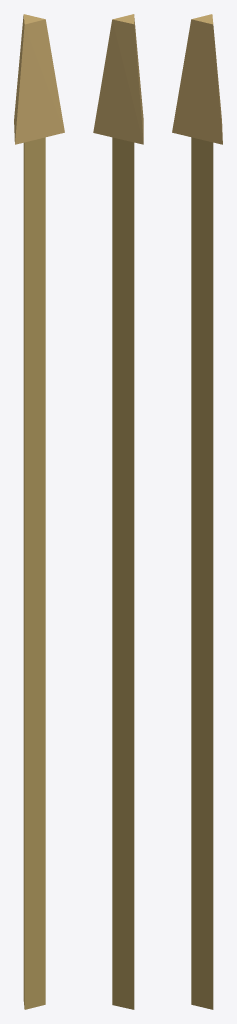
File: field_wheat_stalk.obj
The picture shows the model from 3 angles, left to right: view 1: azimuth 90°, elevation 25°; view 2: azimuth 150°, elevation 25°; view 3: azimuth 270°, elevation 25°; orthographic projection.
Visible parts, largest first — view 1: Stalk, Ear; view 2: Stalk, Ear; view 3: Stalk, Ear.
Part boxes in pixels (box(x1,y1,x2,y2)): Stalk: box(23, 137, 45, 1009); Ear: box(14, 14, 64, 144); Stalk: box(112, 137, 134, 1009); Ear: box(93, 14, 143, 144); Stalk: box(191, 137, 213, 1009); Ear: box(172, 14, 222, 144).
Size of the model in its own units: 0.06 by 1.13 by 0.053.
